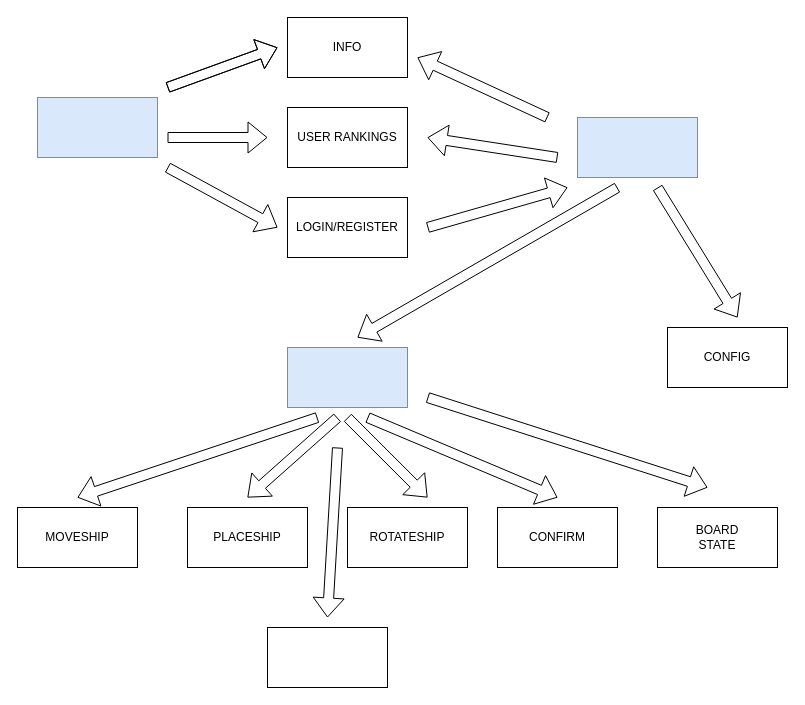
Some shapes in this 805 by 705 pixel diagram are drawn without their labels. The shapes that lost their labels are listed below. From the top down, each one's box as (x1, y1, x2, y2) in pixels, then its label:
(36, 96, 158, 158): HOME
(576, 116, 698, 178): HOME AUTH
(286, 346, 408, 408): START
(266, 626, 388, 688): PLACESHOT
